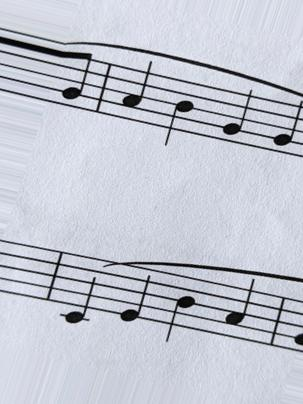A: (223, 276, 257, 349), (122, 59, 154, 112)
B: (163, 268, 193, 345), (163, 97, 197, 148)
E: (119, 263, 146, 327)
G: (271, 95, 302, 163), (223, 88, 254, 153)
LC: (57, 245, 99, 329)
